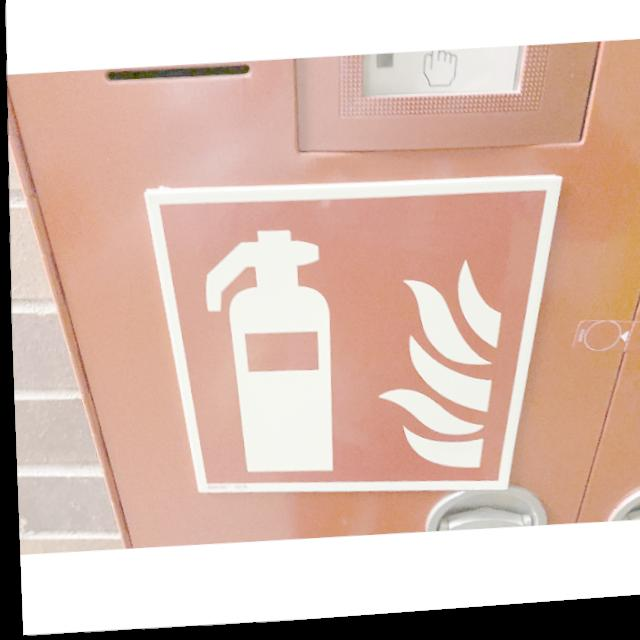fire extinguisher: (136, 168, 568, 517)
